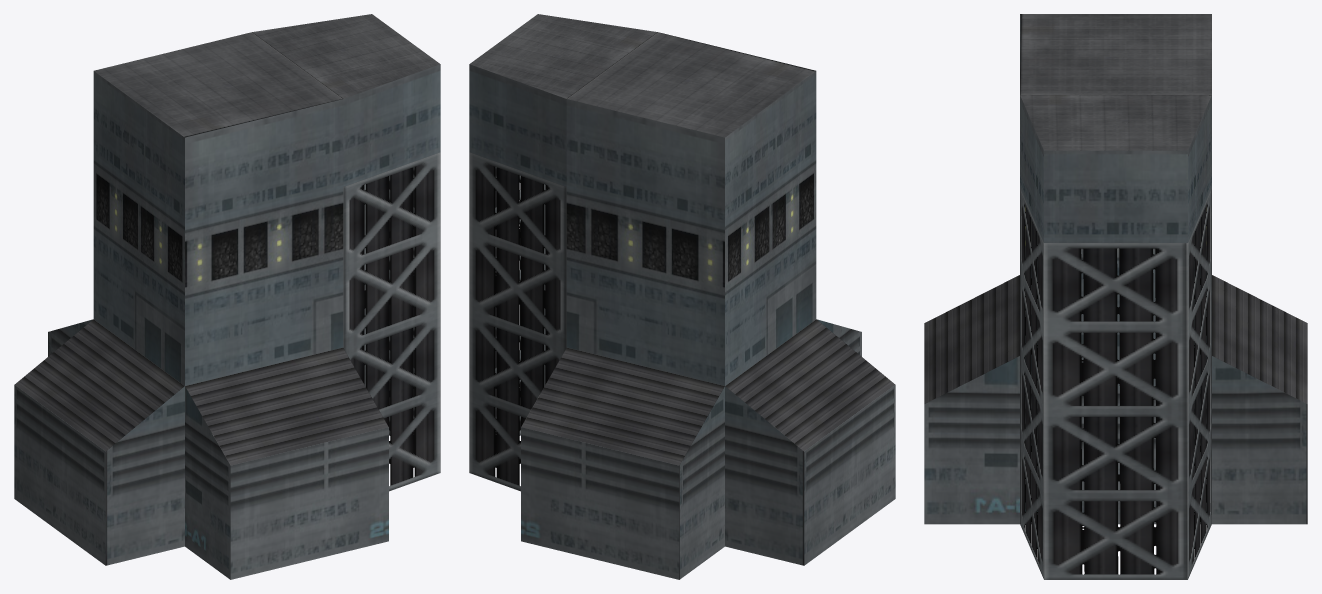
File: Fact00.fbx
3 renders of one model, left to right at view 1: azimuth 30°, elevation 25°; view 2: azimuth 150°, elevation 25°; view 3: azimuth 270°, elevation 25°, orthographic. The views are drawn at different scales.
Parts seen in each view (by area): view 1: Fact00; view 2: Fact00; view 3: Fact00.
Boxes of the visible parts, x1=… form: Fact00: x1=14, y1=14, x2=440, y2=579; Fact00: x1=469, y1=14, x2=895, y2=579; Fact00: x1=924, y1=14, x2=1307, y2=579.
Size of the model in its own units: 140 by 158 by 128.
